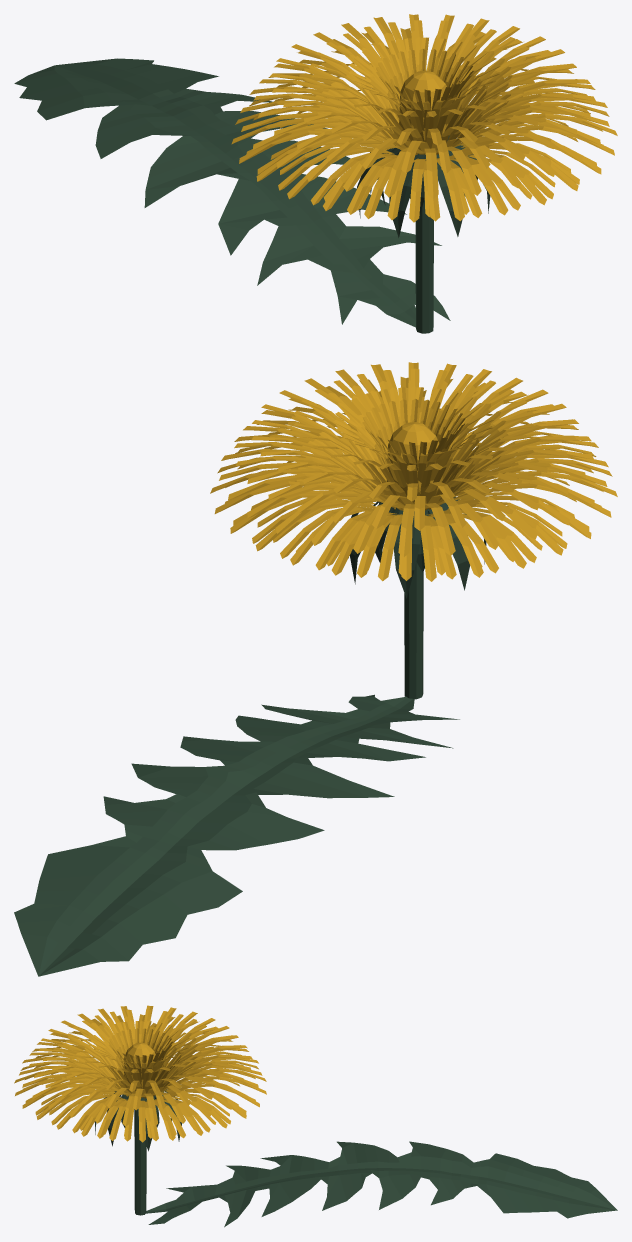
The model's file is dandelion_leaf.glb.
3 renders of one model, top to bottom at view 1: azimuth 30°, elevation 25°; view 2: azimuth 150°, elevation 25°; view 3: azimuth 270°, elevation 25°, orthographic. The views are drawn at different scales.
Parts seen in each view (by area): view 1: dandelion_bud, Plane, dandelion_stem, dandelion_leaves; view 2: dandelion_bud, Plane, dandelion_stem, dandelion_leaves; view 3: dandelion_bud, Plane, dandelion_stem, dandelion_leaves.
Part boxes in pixels (x1,y1,x2,y2): dandelion_bud: (231,14,617,222); Plane: (14,58,450,327); dandelion_stem: (415,200,433,333); dandelion_leaves: (357,135,490,237); dandelion_bud: (210,362,617,581); Plane: (14,694,459,976); dandelion_stem: (404,562,423,699); dandelion_leaves: (348,497,486,598); dandelion_bud: (14,1005,266,1142); Plane: (146,1141,617,1227); dandelion_stem: (134,1109,146,1215); dandelion_leaves: (95,1089,182,1151).
Bounding box in the file's own units: 1.31 × 0.9945 × 3.12.
